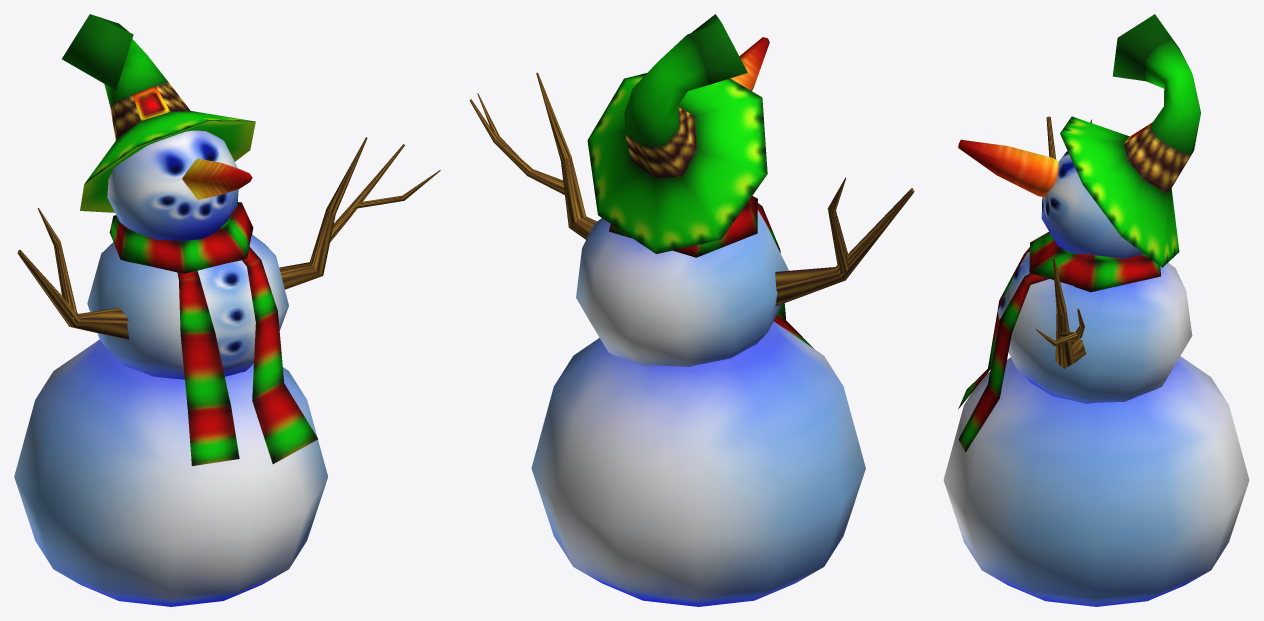
The model's file is Personage_Snowman2.FBX.
The picture shows the model from 3 angles, left to right: view 1: azimuth 30°, elevation 25°; view 2: azimuth 150°, elevation 25°; view 3: azimuth 270°, elevation 25°; orthographic projection. The views are drawn at different scales.
Visible parts, largest first — view 1: Body1; view 2: Body1; view 3: Body1.
Boxes of the visible parts, x1=… form: Body1: x1=14, y1=14, x2=440, y2=606; Body1: x1=469, y1=14, x2=914, y2=606; Body1: x1=943, y1=14, x2=1249, y2=606.
Bounding box in the file's own units: 65.21 × 80.93 × 42.59.
